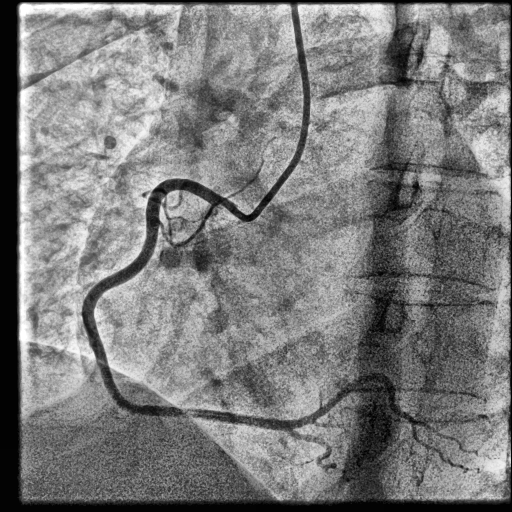pborca: (294, 373, 415, 428)
pda: (290, 430, 336, 470)
rca: (82, 178, 295, 431)
